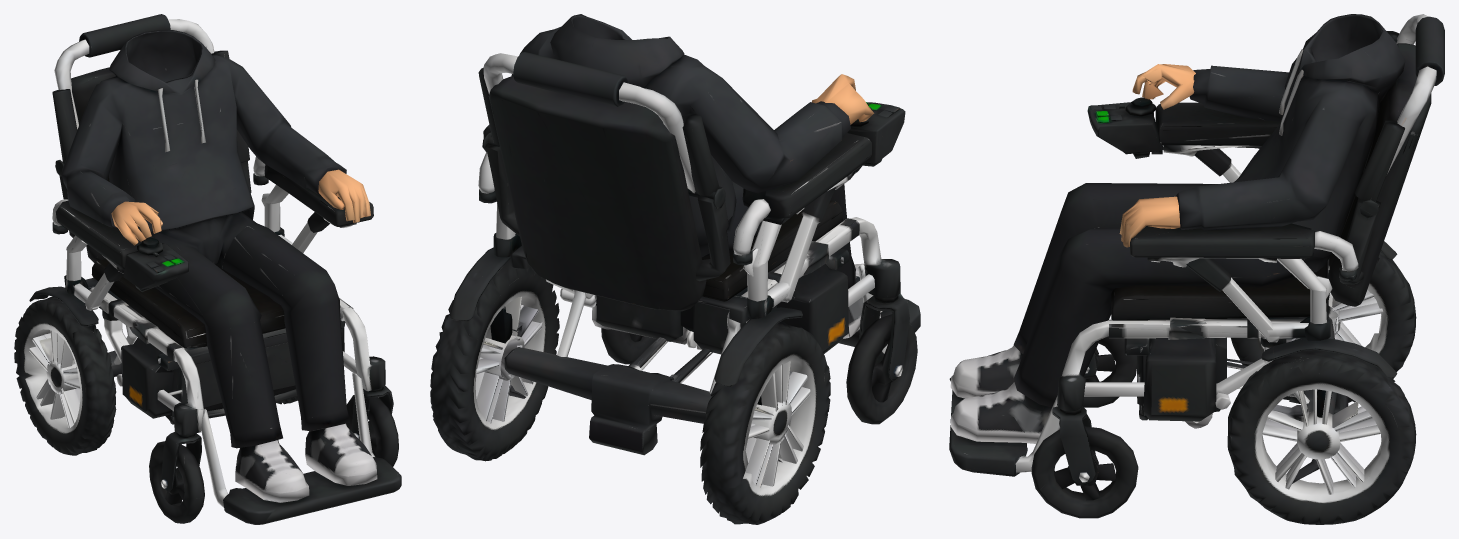
Rendered from wheelchair.glb.
3 views of the same model, side by side, from view 1: azimuth 30°, elevation 25°; view 2: azimuth 150°, elevation 25°; view 3: azimuth 270°, elevation 25° (orthographic). The views are drawn at different scales.
Parts seen in each view (by area): view 1: geometry_0; view 2: geometry_0; view 3: geometry_0.
Part boxes in pixels (x1,y1,x2,y2): geometry_0: (14,14,401,524); geometry_0: (430,14,920,524); geometry_0: (949,14,1444,524).
Bounding box in the file's own units: 0.627 × 0.9165 × 0.9551.
1 material, 1 textured.
